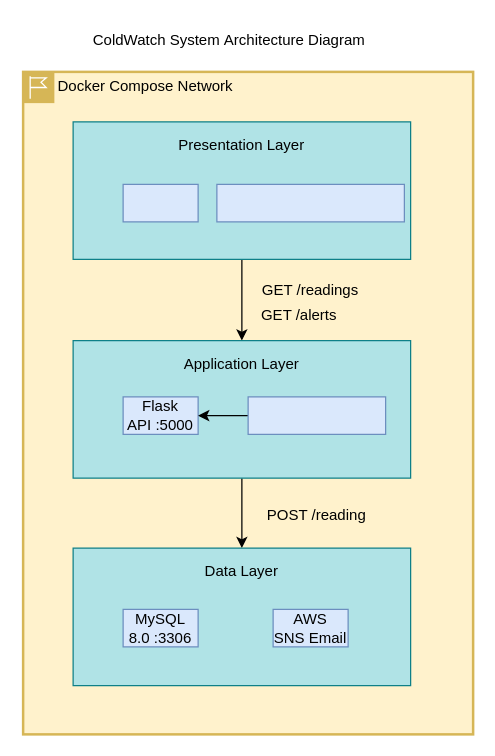
This 495x756 diagram has some shape labels left out. The shapes that lost their labels are listed below. From the top down, each one's centre as x and y in pixels, then its label:
(160,202): PHP Dashboard :8080
(310,202): index.php│style.css│app.js
(316,415): Python Simulator
